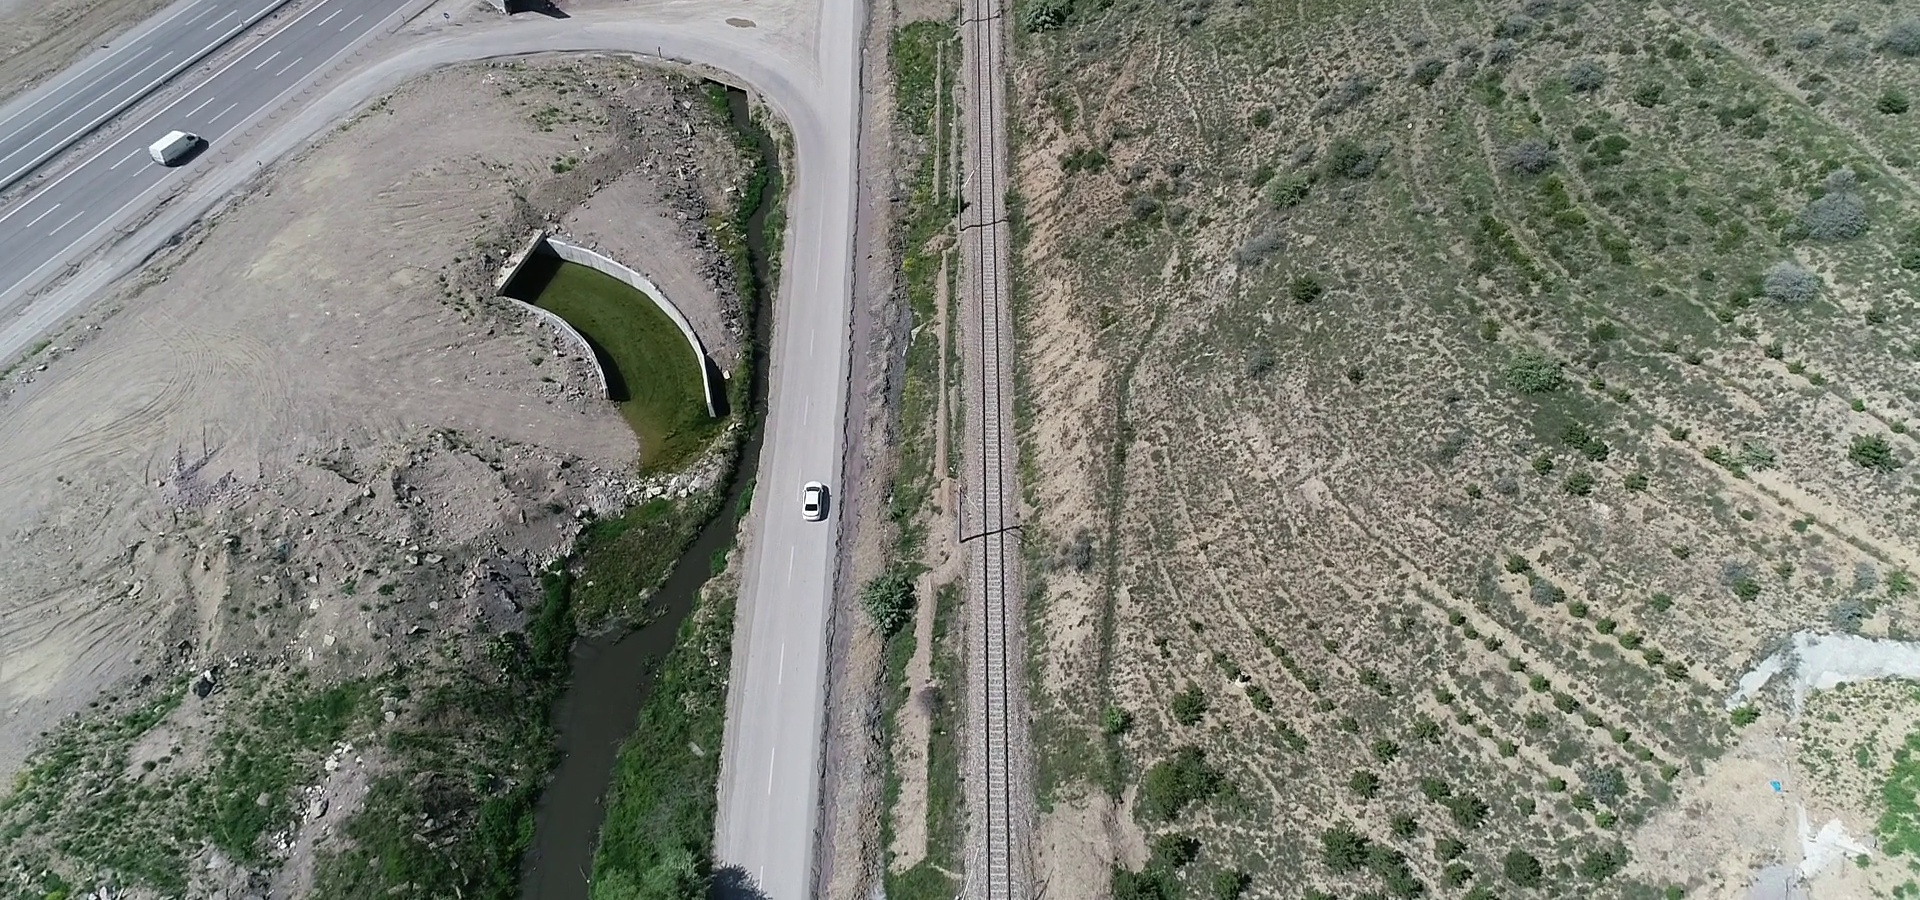araba: (142, 129, 208, 170), (789, 471, 830, 522)
